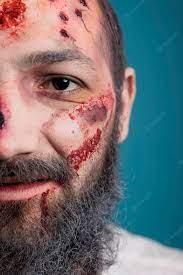Fire: (66, 95, 115, 171), (0, 0, 27, 39), (1, 0, 26, 30), (41, 192, 48, 211), (59, 11, 69, 22), (0, 112, 5, 130), (60, 29, 69, 38), (75, 9, 82, 16)
